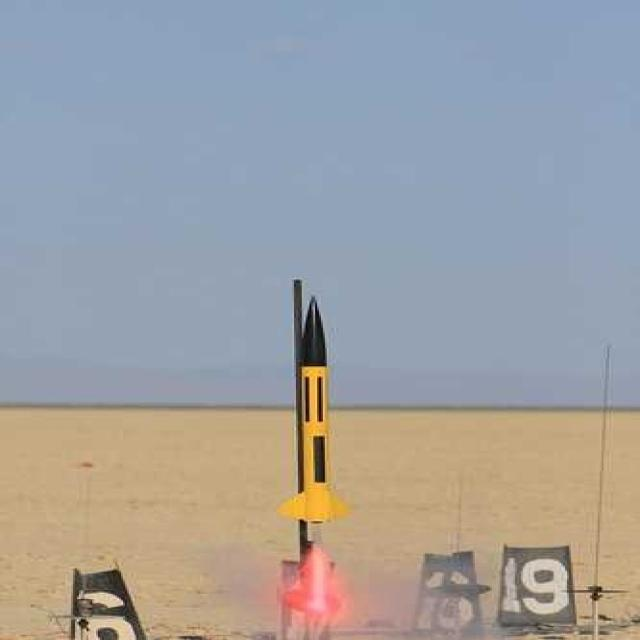missile: (288, 298, 358, 542)
